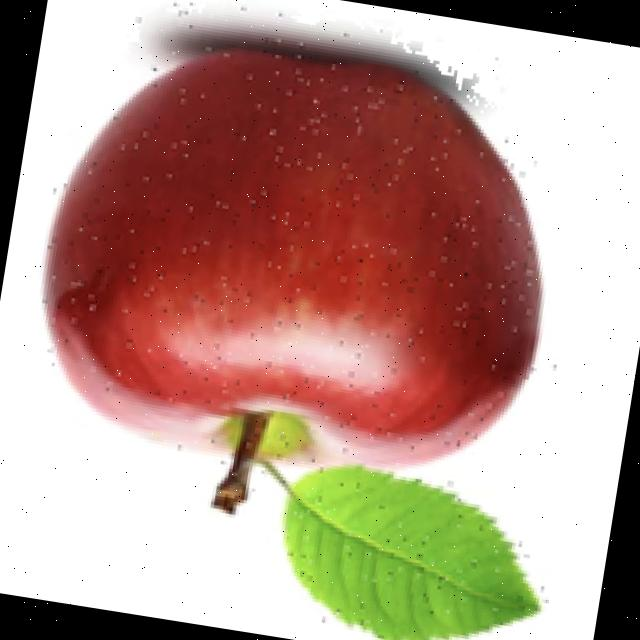apple: (38, 0, 551, 640)
